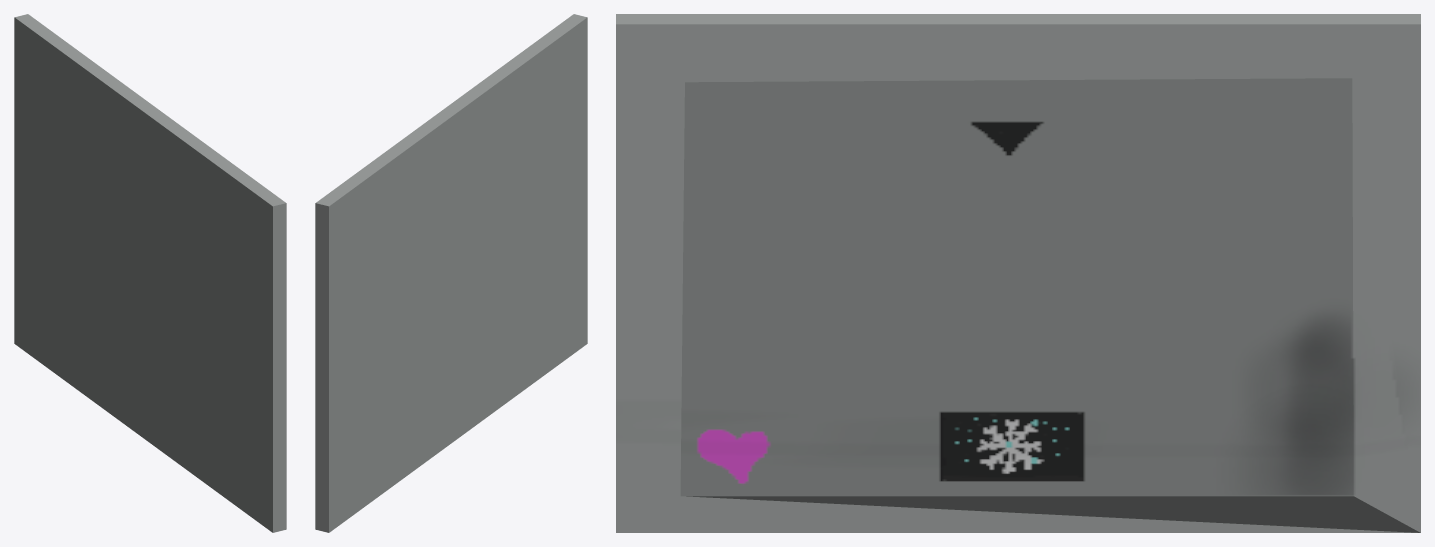
Rendered from Buzdolıüst.fbx.
3 views of the same model, side by side, from view 1: azimuth 30°, elevation 25°; view 2: azimuth 150°, elevation 25°; view 3: azimuth 270°, elevation 25° (orthographic). The views are drawn at different scales.
Visible parts, largest first — view 1: Cube.017; view 2: Cube.017; view 3: Cube.017.
Part boxes in pixels (x1,y1,x2,y2): Cube.017: (14, 14, 286, 532); Cube.017: (315, 14, 587, 532); Cube.017: (616, 14, 1420, 532).
Size of the model in its own units: 15.31 by 178 by 255.
Materials: 1 (1 with a texture image).
